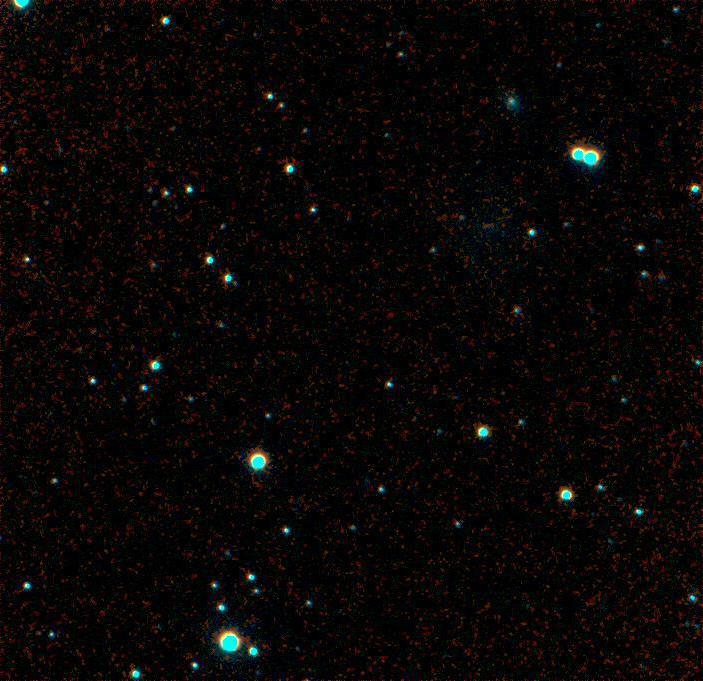star: (311, 537, 341, 567)
